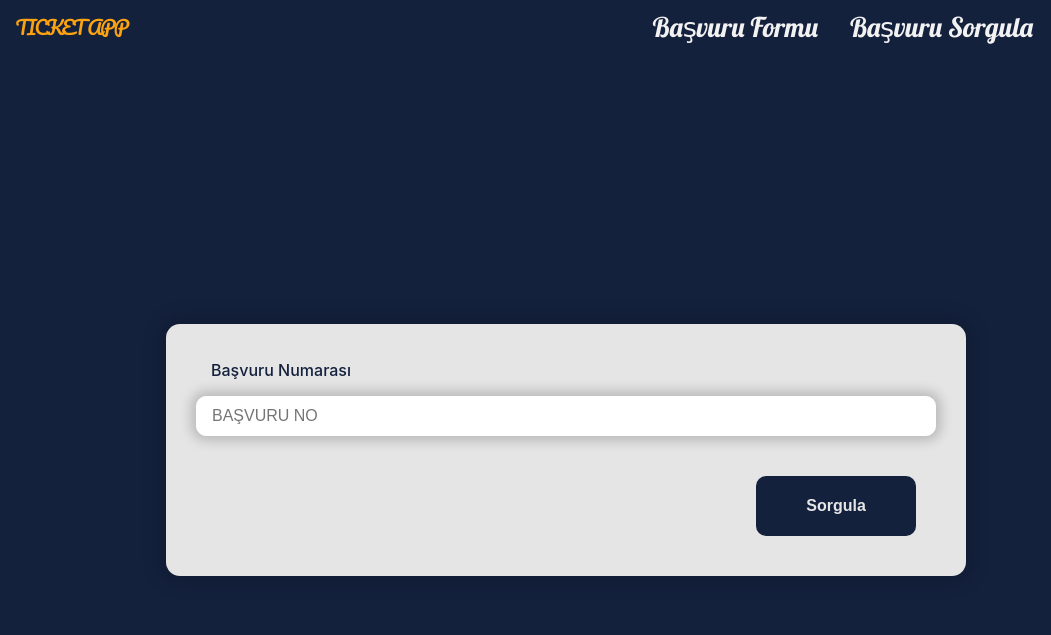
it: ApplicationInquiry › should display length error when application number is invalid
Type "4LEN" into the field with test id "applicationNo" at coordinates (566, 416), box [196,396,936,436]
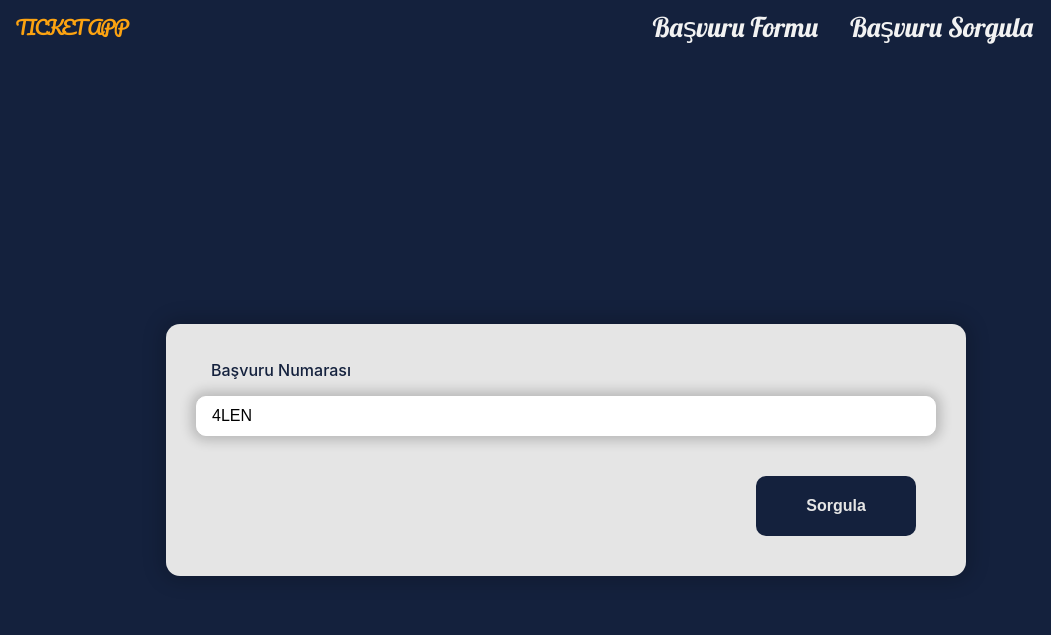
Submit the form from the button, box [756,476,916,536]
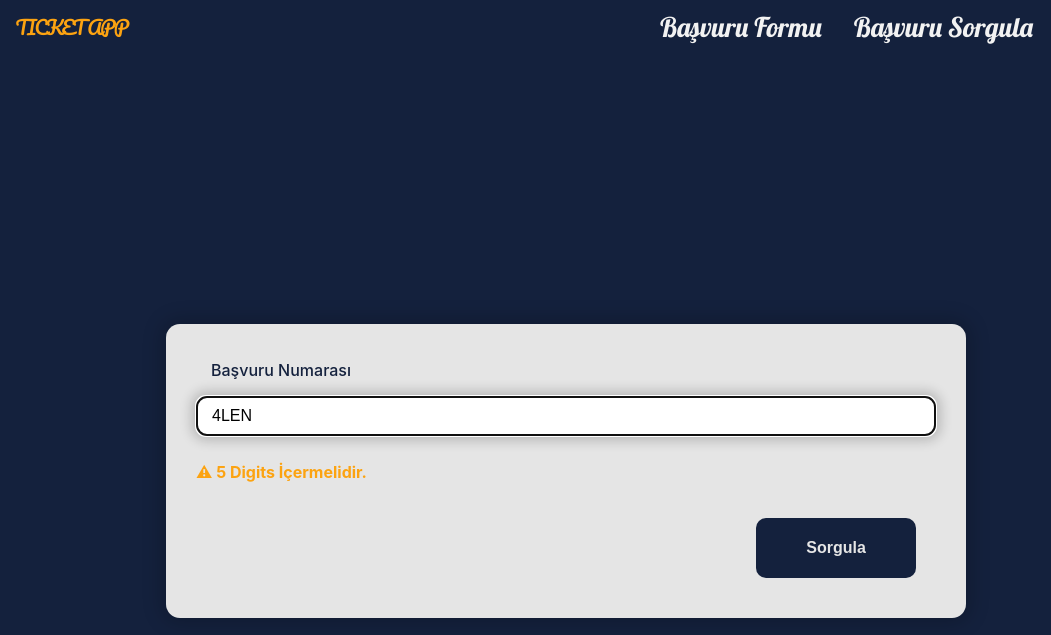
Now the number of messages is 1, box [216,462,367,482]
